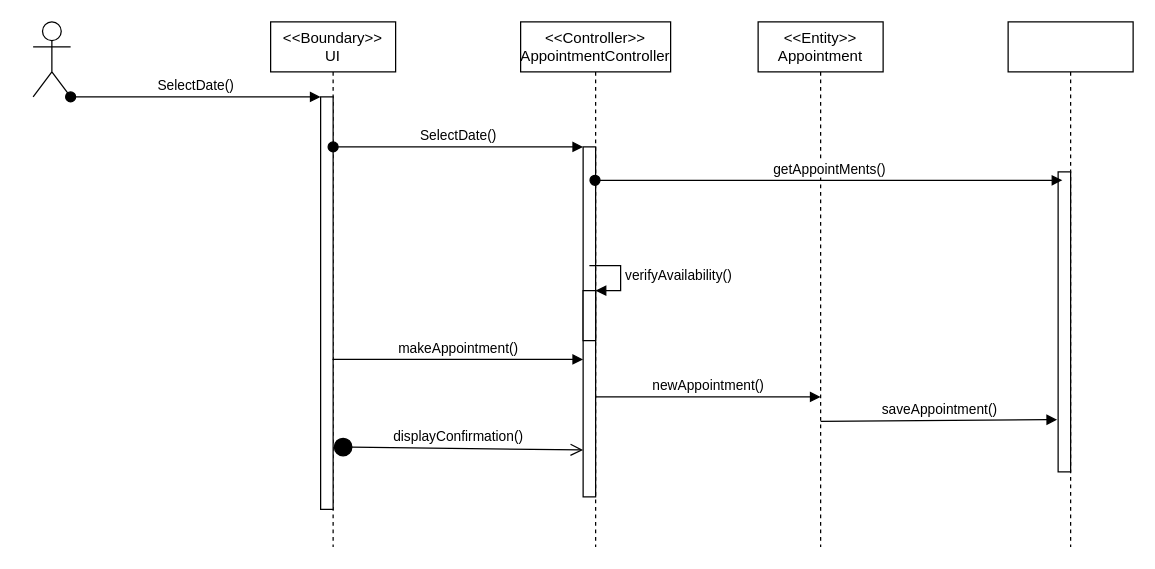
This 1155x569 diagram has some shape labels left out. The shapes that lost their labels are listed below. From the top down, each one's centre as x and y in pixels, then its label:
At point (51, 59): "customer".
At point (1070, 284): "<<Boundary>> DBInterface".
